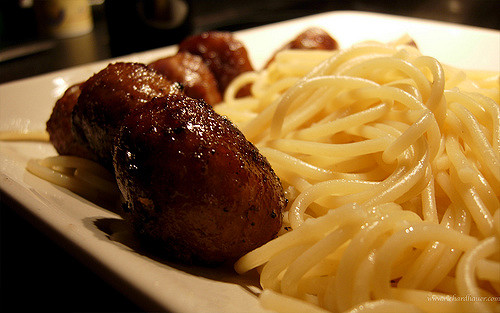meatballs: (106, 88, 266, 236)
plain spaghetti: (279, 83, 478, 313)
